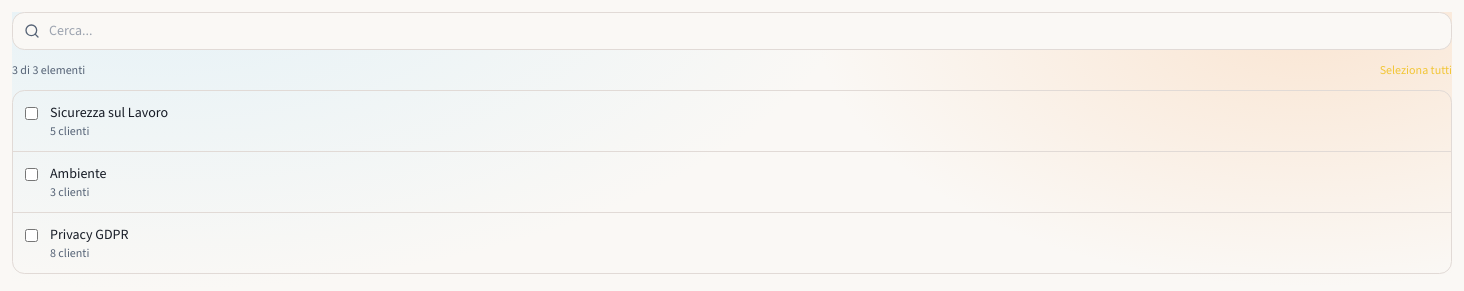
Test: SearchableCheckboxList › should show empty message when no items match
Type "nonexistent" into the field.
click(732, 31); type("nonexistent")  # box x1=12 y1=12 x2=1452 y2=50
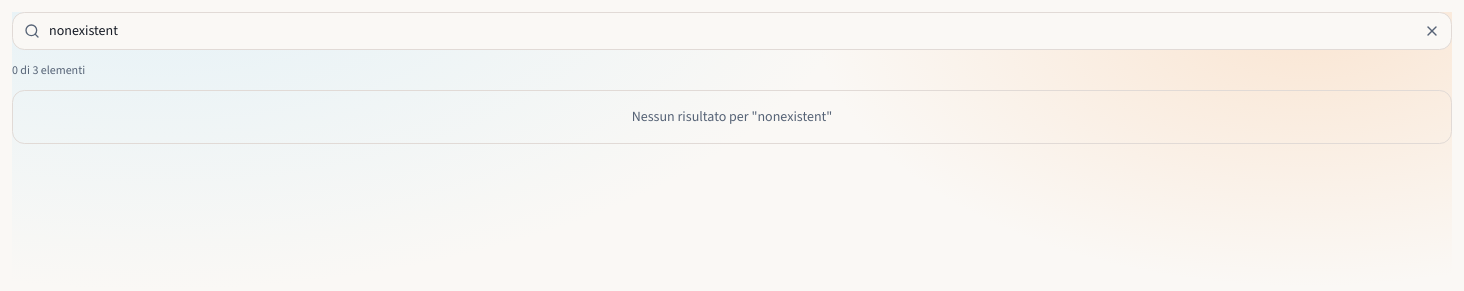
Check: the text "Nessun risultato per \"nonexistent\"" is shown, box x1=632 y1=107 x2=832 y2=126
